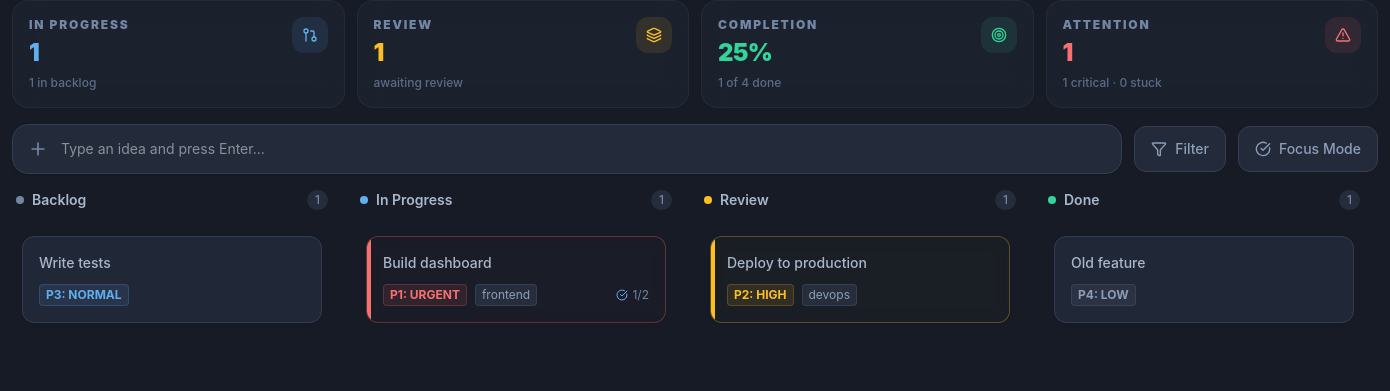
Test: CompassAdminView › filters tasks by priority
The width and height of the screenshot is (1390, 391).
Check: the heading "Build dashboard" is shown, box x1=383 y1=253 x2=492 y2=272
// Open filters and select P1
Click the button "Filter". click: click(1180, 149)
box: x1=1134 y1=126 x2=1226 y2=172
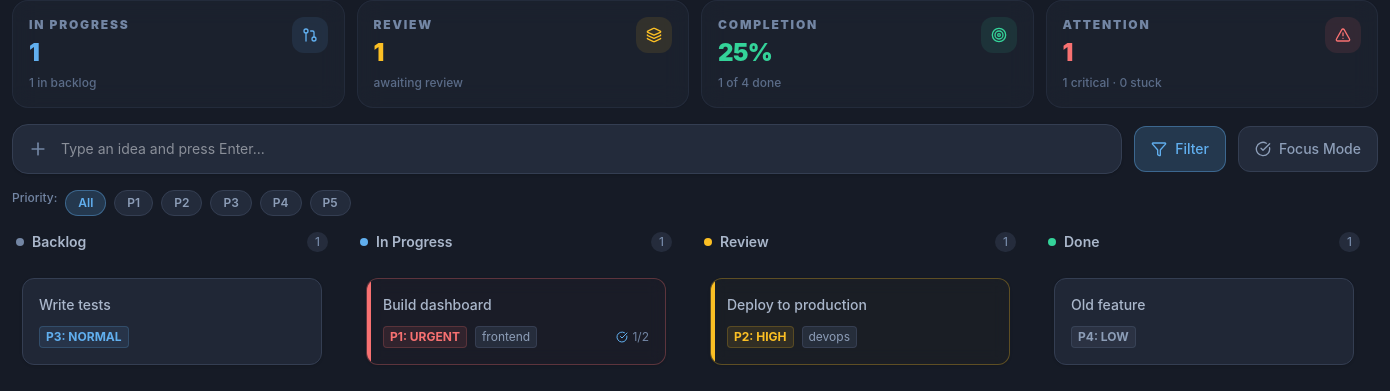
Click the button "P1". click: click(134, 203)
box: x1=114 y1=190 x2=153 y2=216
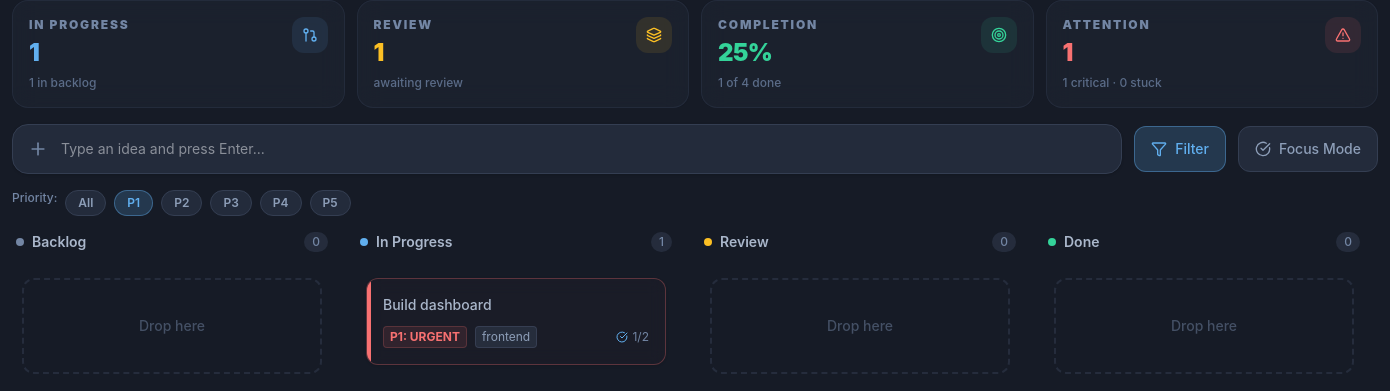
Check: the heading "Build dashboard" is shown, box x1=383 y1=295 x2=492 y2=314
Check: the button "Write tests" is gone
